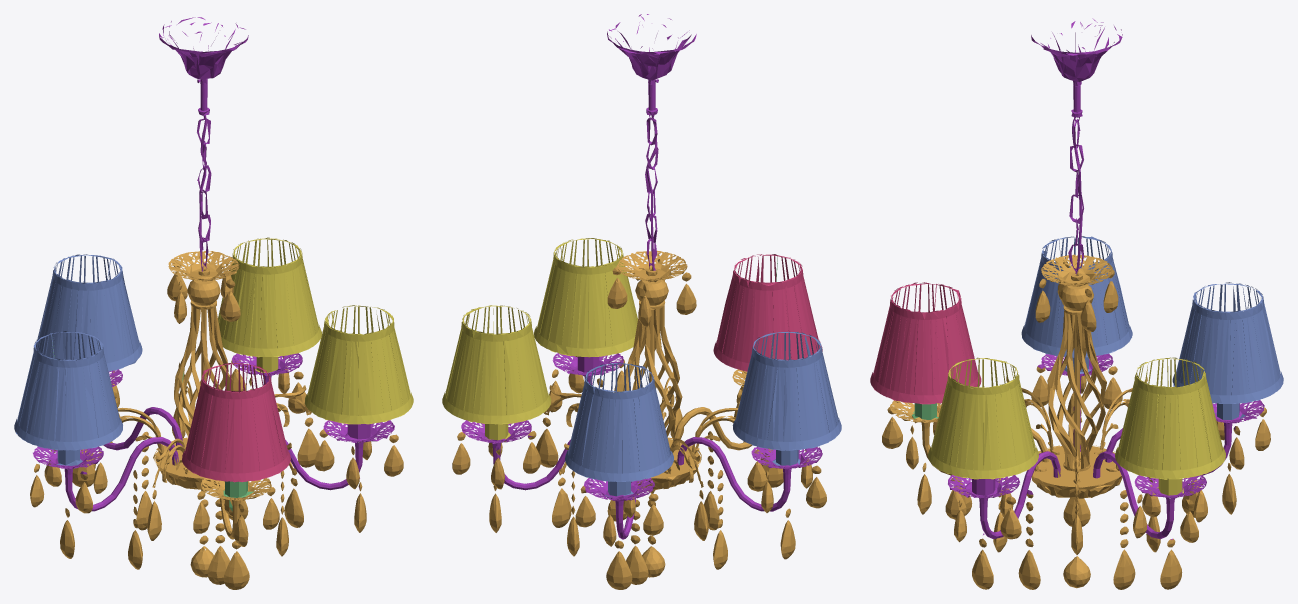
The picture shows the model from 3 angles, left to right: view 1: azimuth 30°, elevation 25°; view 2: azimuth 150°, elevation 25°; view 3: azimuth 270°, elevation 25°; orthographic projection.
Parts seen in each view (by area): view 1: world; view 2: world; view 3: world.
Part boxes in pixels (x1,y1,x2,y2): world: (14, 17, 413, 589); world: (442, 14, 841, 589); world: (870, 18, 1283, 589).
Bounding box in the file's own units: 0.575 × 0.8816 × 0.5964.
